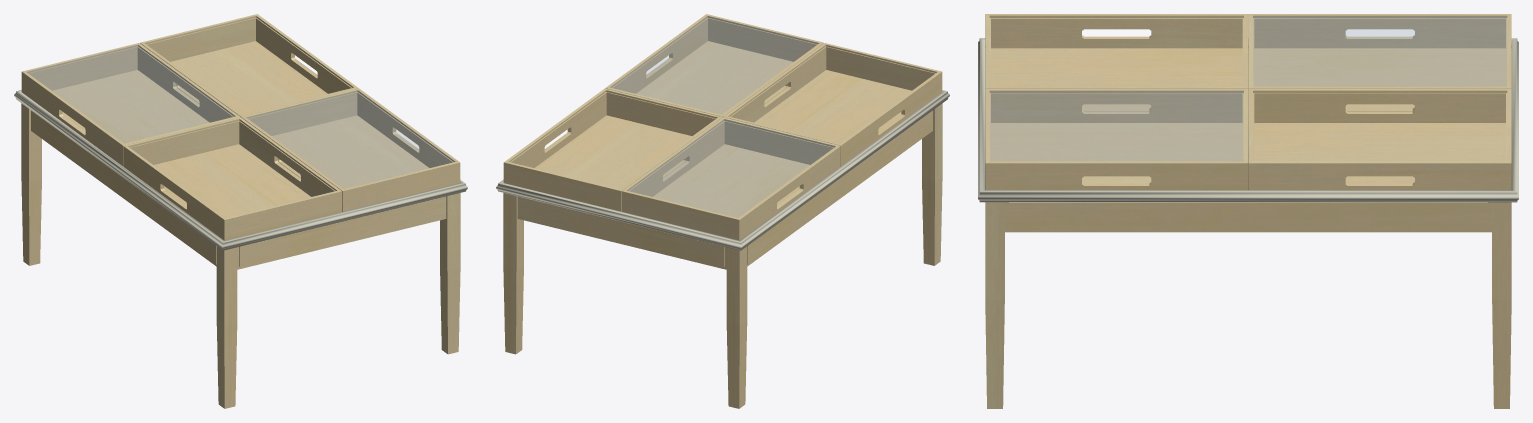
Rendered from living_room_table.obj.
3 views of the same model, side by side, from view 1: azimuth 30°, elevation 25°; view 2: azimuth 150°, elevation 25°; view 3: azimuth 270°, elevation 25° (orthographic). The views are drawn at different scales.
Parts seen in each view (by area): view 1: Living_r_table_Cube, box_table3_Plane.013, box_table4_Plane.014, box_table1_Plane.001, box_table2_Plane.012, glass_plane4_Plane.008, glass_plane_Plane.005, Living_r_table_mod_Cube.001; view 2: Living_r_table_Cube, box_table1_Plane.001, box_table2_Plane.012, box_table3_Plane.013, box_table4_Plane.014, glass_plane_Plane.005, glass_plane4_Plane.008, Living_r_table_mod_Cube.001; view 3: box_table4_Plane.014, box_table2_Plane.012, Living_r_table_Cube, box_table3_Plane.013, box_table1_Plane.001, glass_plane_Plane.005, glass_plane4_Plane.008, Living_r_table_mod_Cube.001.
Part boxes in pixels (x1,y1,x2,y2): Living_r_table_Cube: (21, 103, 460, 408); box_table3_Plane.013: (123, 117, 341, 240); box_table4_Plane.014: (241, 88, 460, 211); box_table1_Plane.001: (21, 43, 240, 166); box_table2_Plane.012: (140, 14, 358, 116); glass_plane4_Plane.008: (247, 90, 454, 188); glass_plane_Plane.005: (27, 45, 234, 143); Living_r_table_mod_Cube.001: (14, 59, 467, 250); Living_r_table_Cube: (503, 103, 942, 408); box_table1_Plane.001: (622, 117, 840, 240); box_table2_Plane.012: (503, 88, 722, 211); box_table3_Plane.013: (723, 43, 942, 166); box_table4_Plane.014: (605, 14, 823, 116); glass_plane_Plane.005: (627, 119, 835, 217); glass_plane4_Plane.008: (611, 16, 818, 114); Living_r_table_mod_Cube.001: (496, 59, 949, 250); box_table4_Plane.014: (985, 89, 1248, 190); box_table2_Plane.012: (1248, 89, 1511, 190); Living_r_table_Cube: (985, 202, 1511, 408); box_table3_Plane.013: (985, 14, 1248, 111); box_table1_Plane.001: (1248, 14, 1511, 111); glass_plane_Plane.005: (1253, 16, 1506, 86); glass_plane4_Plane.008: (990, 91, 1243, 160); Living_r_table_mod_Cube.001: (978, 38, 1518, 202).
Bounding box in the file's own units: 72.55 × 53.62 × 107.
Materials: 3 (1 with a texture image).
